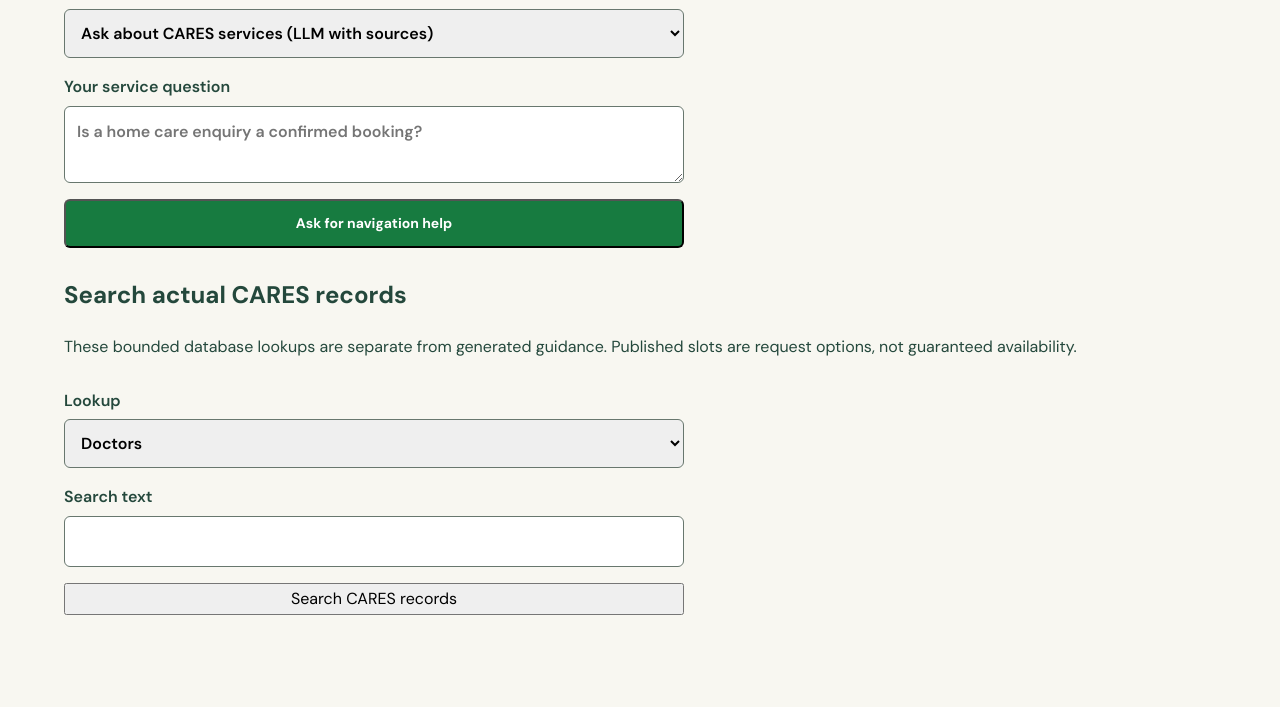
it: displays authorized structured query errors
(page scrolled)
Select "My appointments (patient sign in required)" in the dropdown labelled "Lookup": (374, 444) x1=64 y1=419 x2=684 y2=468
(page scrolled)
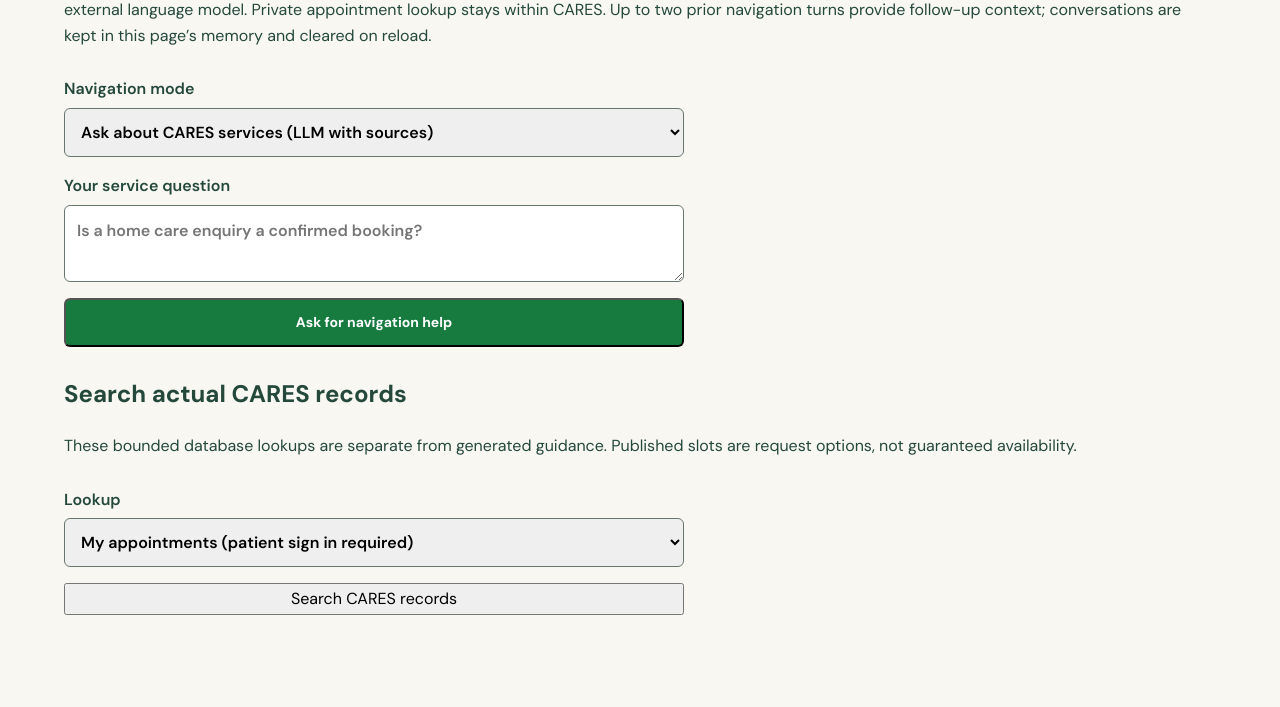
Click the button "Search CARES records": (374, 599) x1=64 y1=583 x2=684 y2=615
(page scrolled)
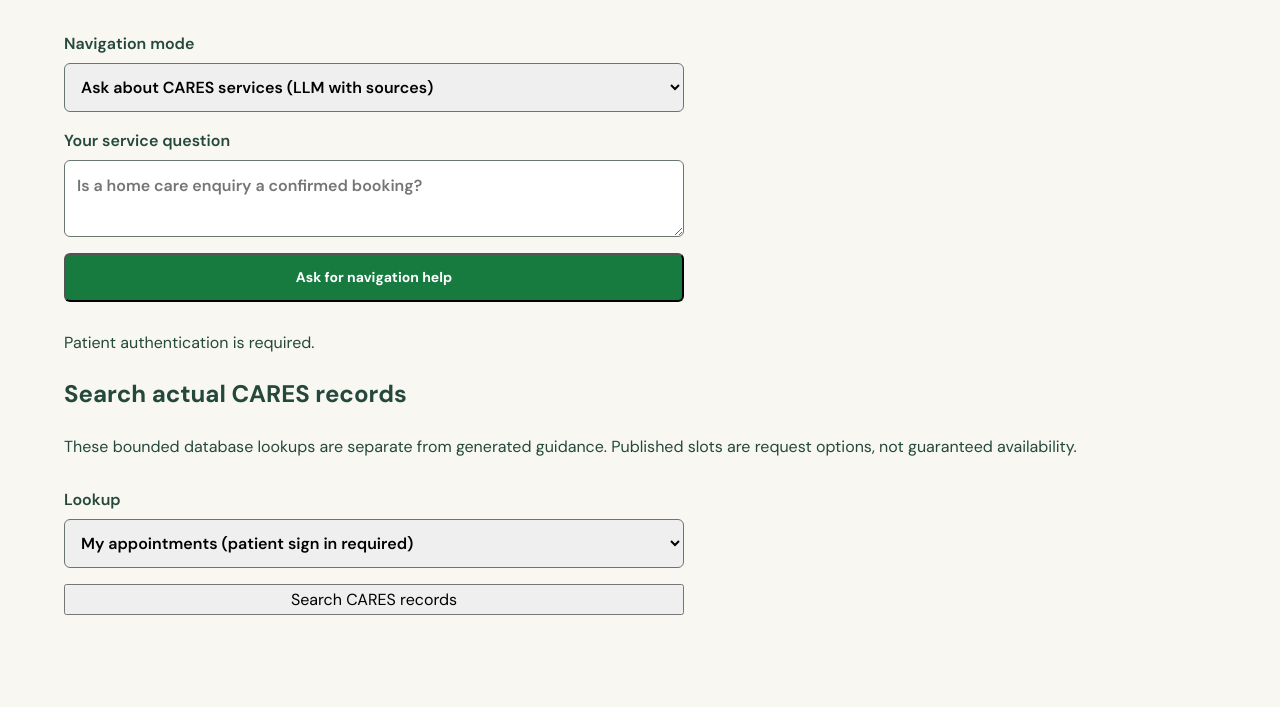
Result: the message shows "authentication" at x1=64 y1=332 x2=314 y2=353
